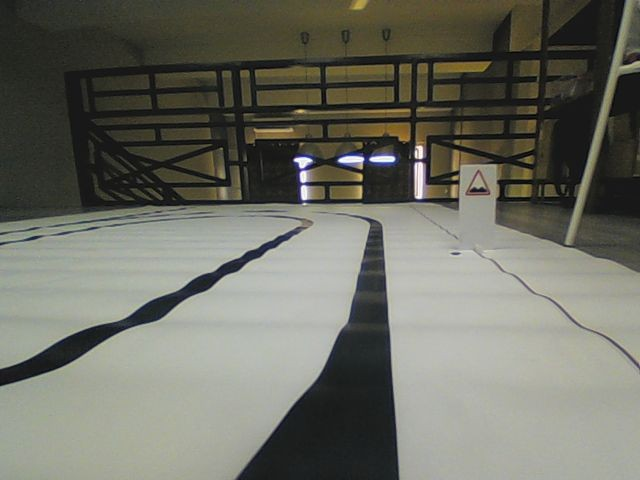Nerov: (464, 167, 491, 198)
